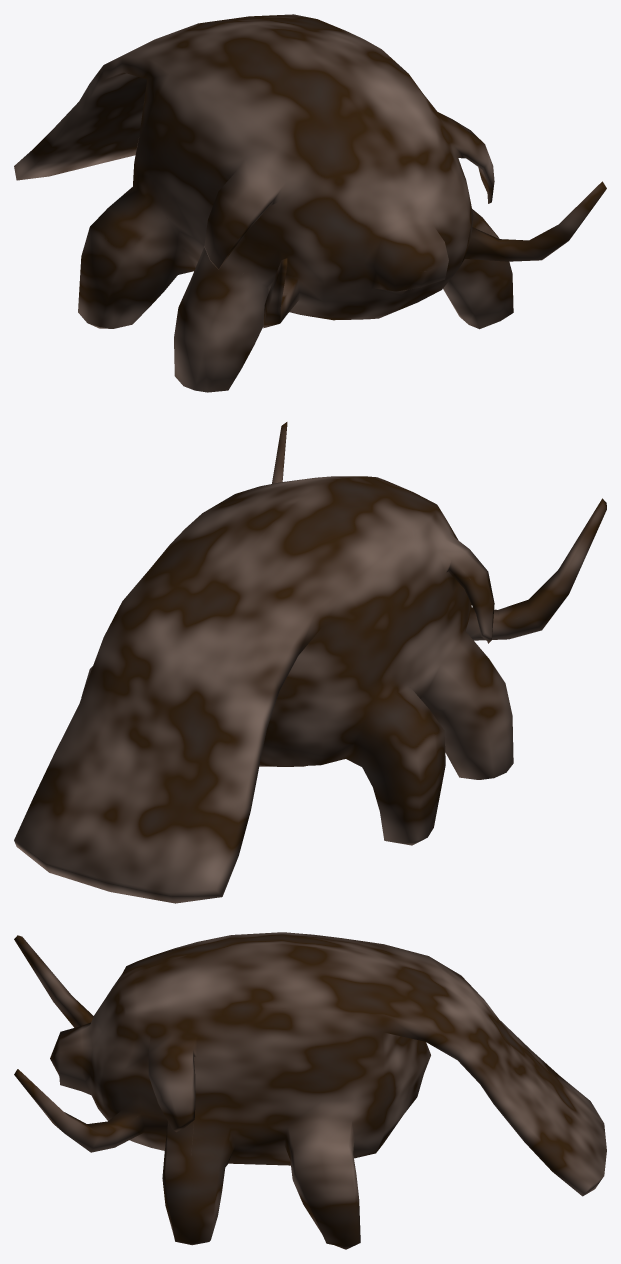
Rendered from TuguCeleng.fbx.
3 views of the same model, one above another, from view 1: azimuth 30°, elevation 25°; view 2: azimuth 150°, elevation 25°; view 3: azimuth 270°, elevation 25° (orthographic). The views are drawn at different scales.
Parts seen in each view (by area): view 1: Cube.004; view 2: Cube.004; view 3: Cube.004.
Boxes of the visible parts, <box> form: Cube.004: <box>14,14,606,392</box>; Cube.004: <box>14,422,606,903</box>; Cube.004: <box>14,932,606,1249</box>.
Bounding box in the file's own units: 475 × 364 × 818.
1 material, 1 textured.
